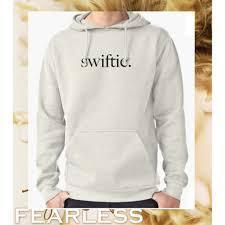sweater: (27, 8, 196, 210)
